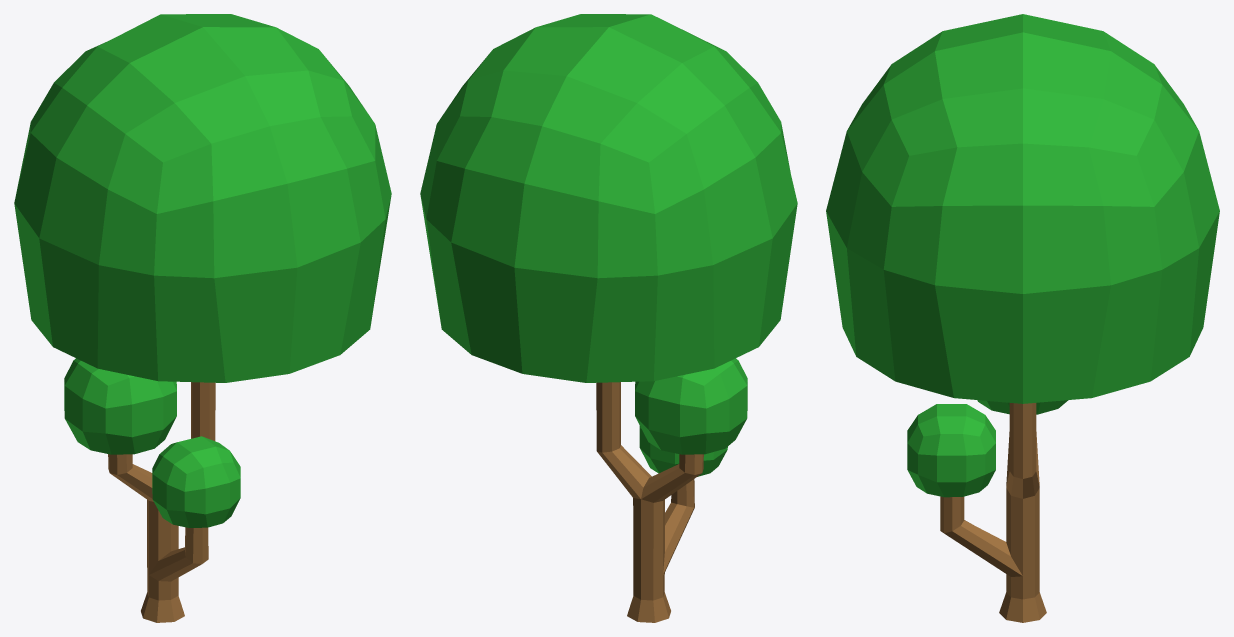
The model's file is tree1.fbx.
3 views of the same model, side by side, from view 1: azimuth 30°, elevation 25°; view 2: azimuth 150°, elevation 25°; view 3: azimuth 270°, elevation 25° (orthographic). The views are drawn at different scales.
Visible parts, largest first — view 1: Tree.002; view 2: Tree.002; view 3: Tree.002.
Boxes of the visible parts, x1,y1,x2,y2 form: Tree.002: [14, 14, 391, 622]; Tree.002: [420, 14, 797, 622]; Tree.002: [826, 14, 1219, 622].
Size of the model in its own units: 552 by 930 by 552.
